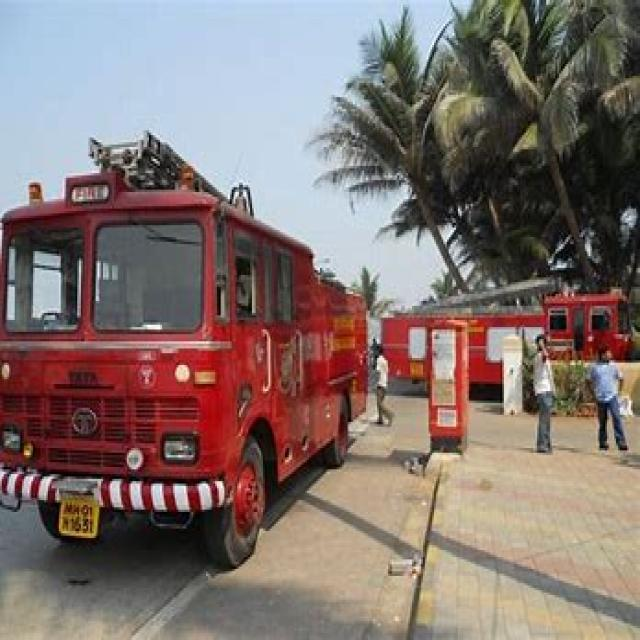Fire-engine: (0, 128, 368, 569), (374, 284, 636, 389)
